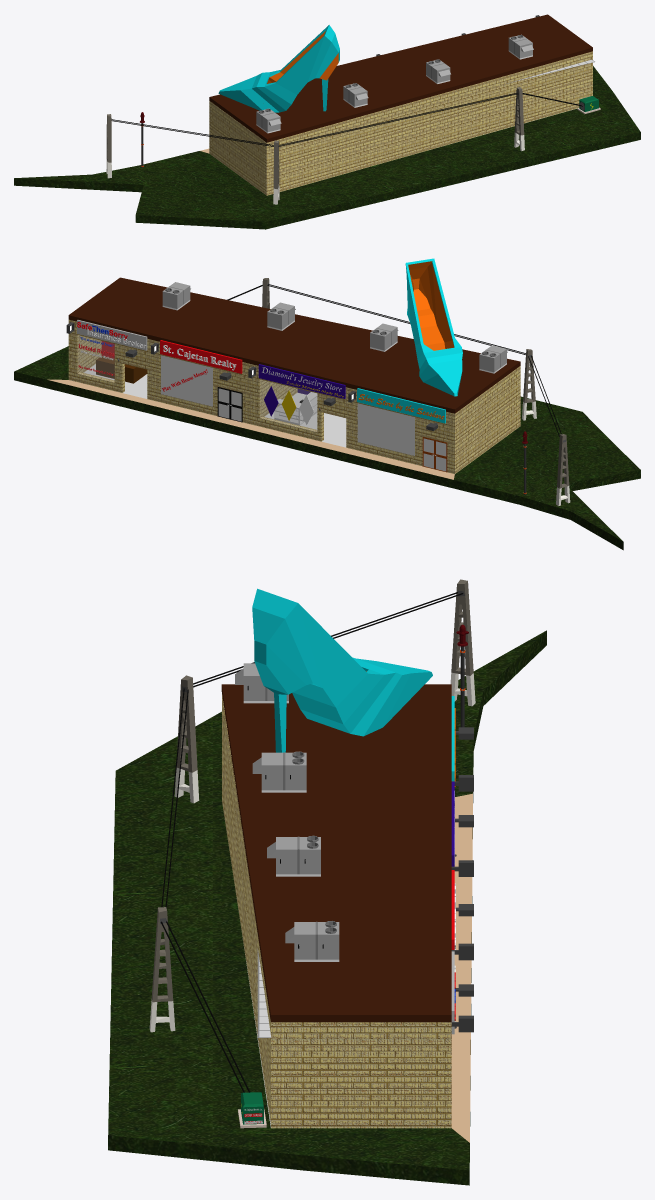
Rendered from Strip Mall 4.glb.
The picture shows the model from 3 angles, top to bottom: view 1: azimuth 30°, elevation 25°; view 2: azimuth 150°, elevation 25°; view 3: azimuth 270°, elevation 25°; orthographic projection. The views are drawn at different scales.
Visible parts, largest first — view 1: Ground, Walls, Roof, Shoe, RTUs, LV Pole, LV Wires; view 2: Roof, Ground, Walls, Windows, Shoe, RTUs, LV Pole, Door, Floor, InsuranceSign, JewlerySign, ShoeStoreSign (+6 smaller); view 3: Ground, Roof, Walls, Shoe, RTUs, LV Pole, LV Wires, Lights Ext, Power Box.
Boxes of the visible parts, x1,y1,x2,y2 form: Ground: (14,66,640,229); Walls: (209,51,592,195); Roof: (209,14,592,142); Shoe: (218,25,339,112); RTUs: (256,34,533,133); LV Pole: (106,87,524,204); LV Wires: (111,93,582,146); Roof: (68,277,520,413); Ground: (14,346,640,550); Walls: (68,319,520,473); Windows: (78,335,414,455); Shoe: (405,258,462,396); RTUs: (162,282,507,373); LV Pole: (262,278,570,505); Door: (217,387,447,472); Floor: (84,364,346,447); InsuranceSign: (77,320,147,375); JewlerySign: (258,364,345,398); ShoeStoreSign: (357,388,445,423); Ground: (108,630,546,1185); Roof: (221,684,451,1022); Walls: (222,694,451,1128); Shoe: (252,588,432,752); RTUs: (235,663,339,961); LV Pole: (149,579,475,1032); LV Wires: (160,592,463,1092); Lights Ext: (451,727,473,1032); Power Box: (238,1092,266,1128).
Bounding box in the file's own units: 46.72 × 11.68 × 16.04.
61 materials, 2 textured.
